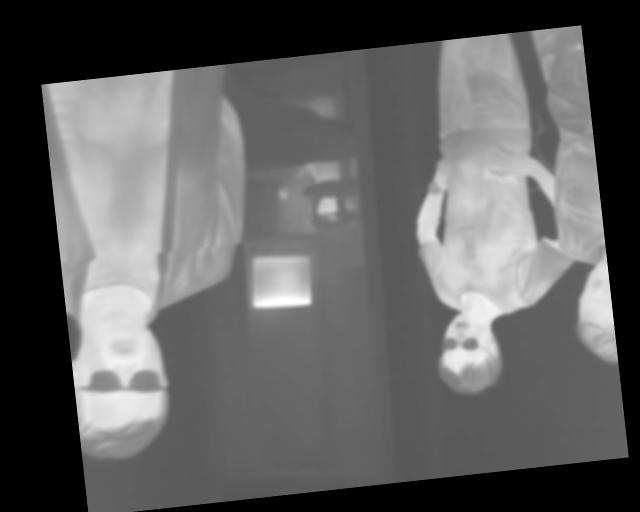face: (67, 312, 178, 465), (432, 307, 506, 399)
